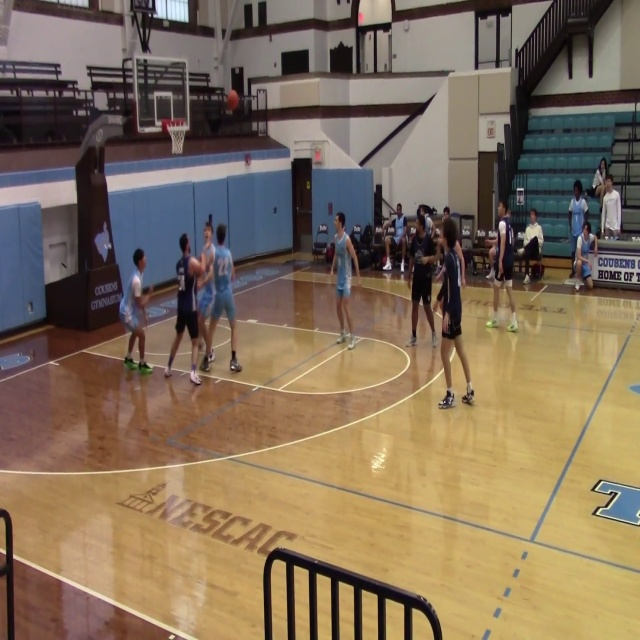Basketball: (188, 258, 203, 277), (227, 89, 239, 110), (489, 246, 497, 259)
